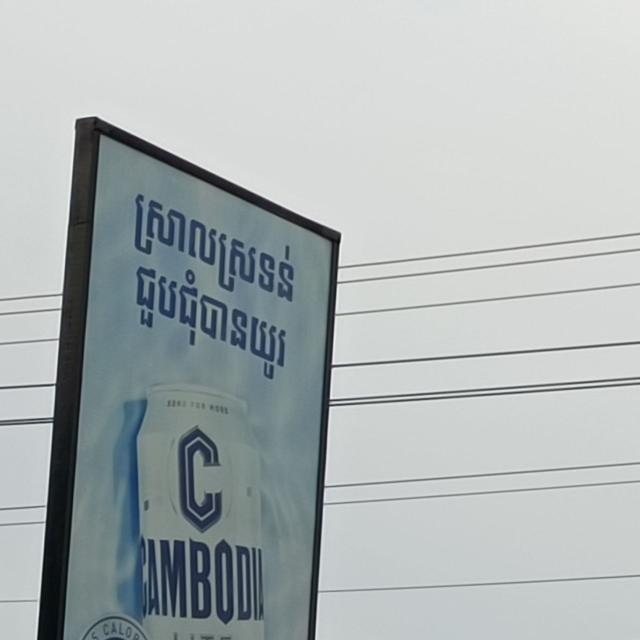Yolov11_80vkh: (113, 243, 306, 394), (125, 180, 307, 319)
